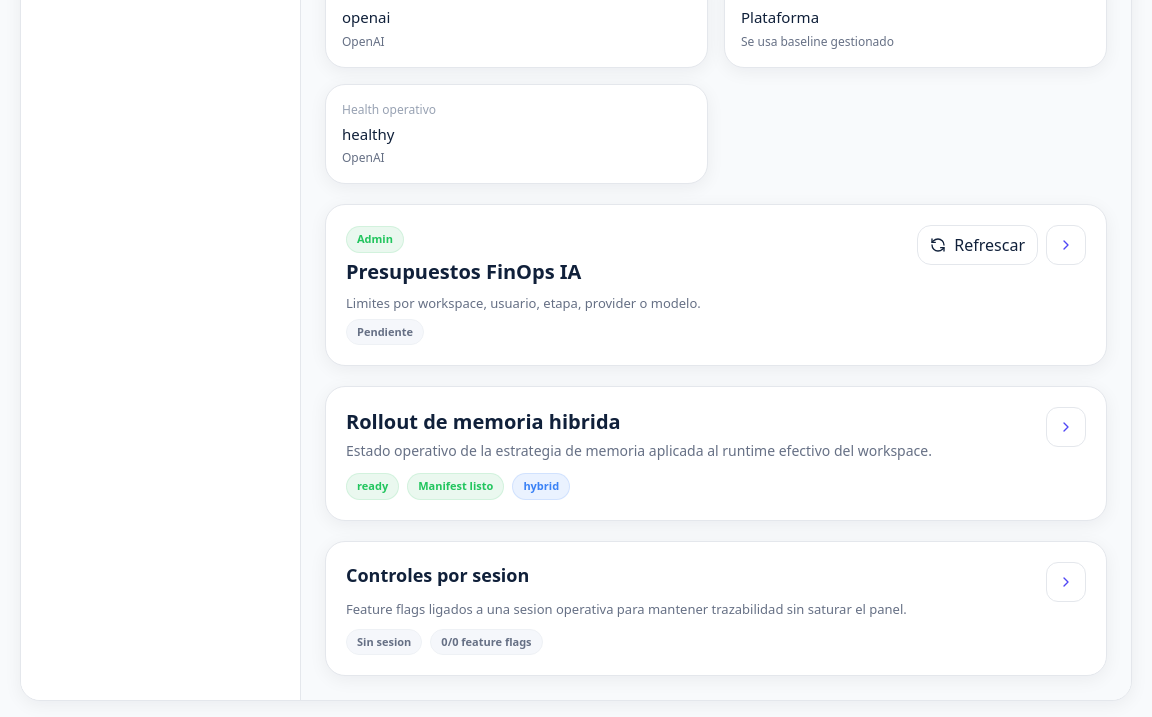
Test case: SettingsWorkspacePage › presenta controles por sesion como tarjeta colapsable
The width and height of the screenshot is (1152, 717).
(page scrolled)
Expected: the text "Controles por sesion" is shown, left=346, top=562, right=529, bottom=586
Expected: the text "Sin sesion" is shown, left=346, top=628, right=422, bottom=655
Click the button named "Expandir controles por sesion": (1066, 582) left=1046, top=562, right=1086, bottom=602
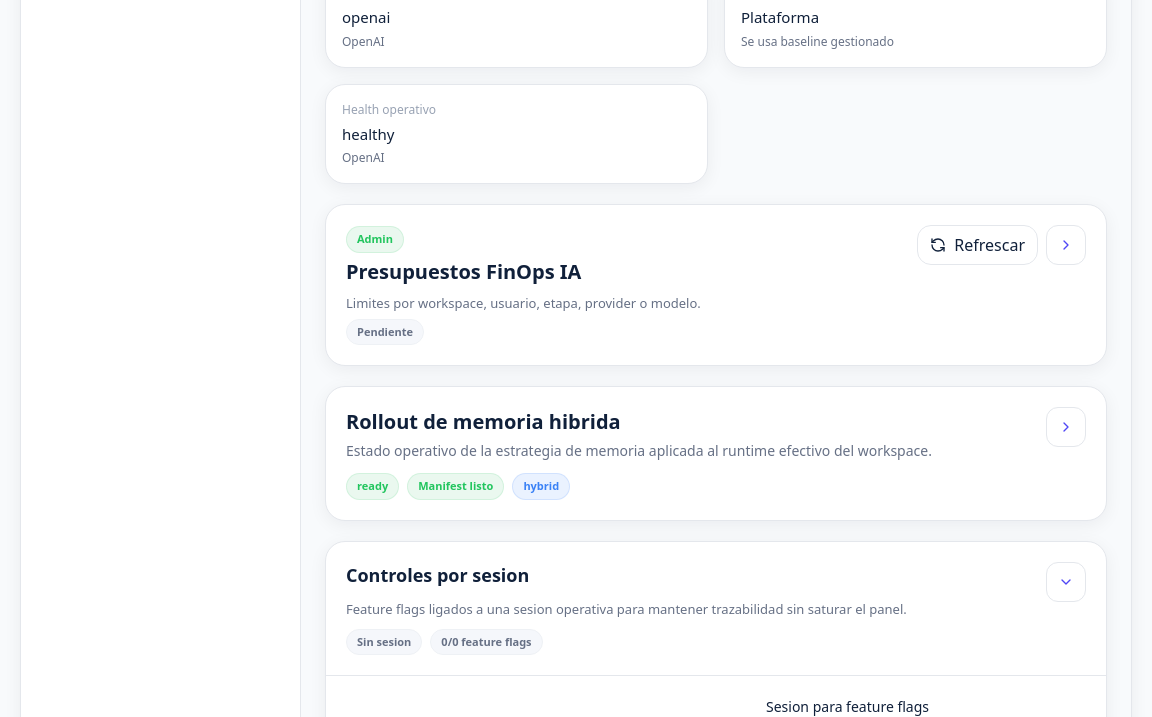
Result: the button named "Contraer controles por sesion" is expanded
Click the button named "Contraer controles por sesion": (1066, 582) left=1046, top=562, right=1086, bottom=602
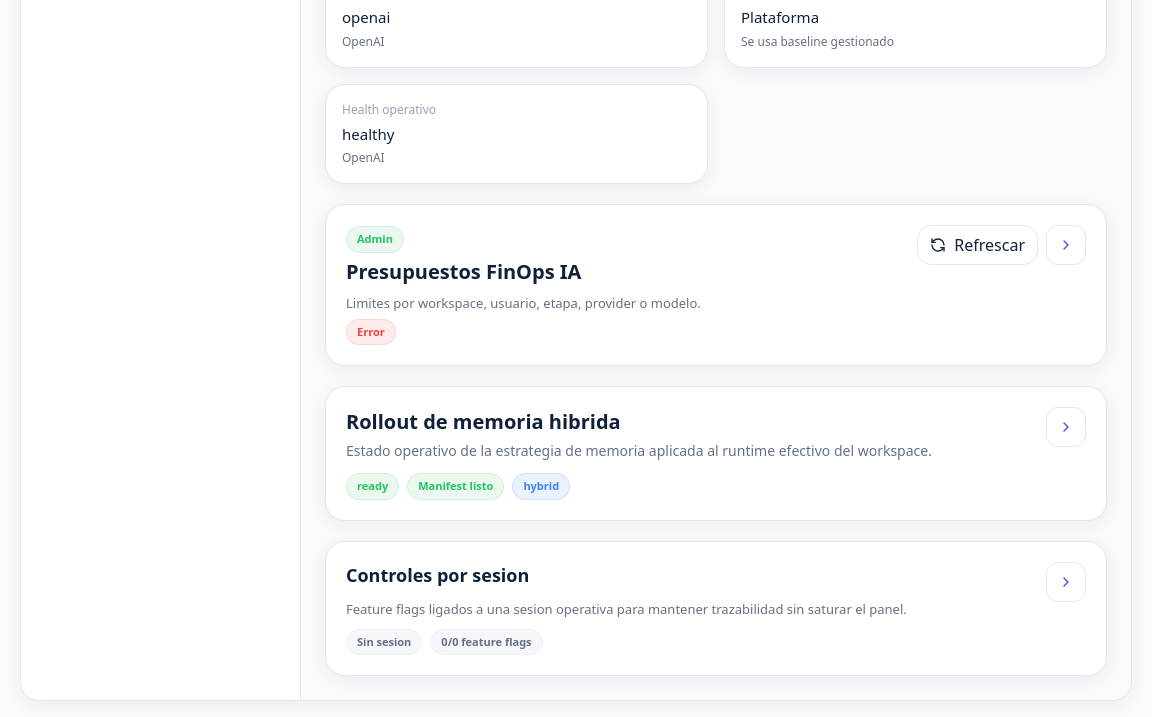
Result: the button named "Expandir controles por sesion" is collapsed at left=1046, top=562, right=1086, bottom=602
